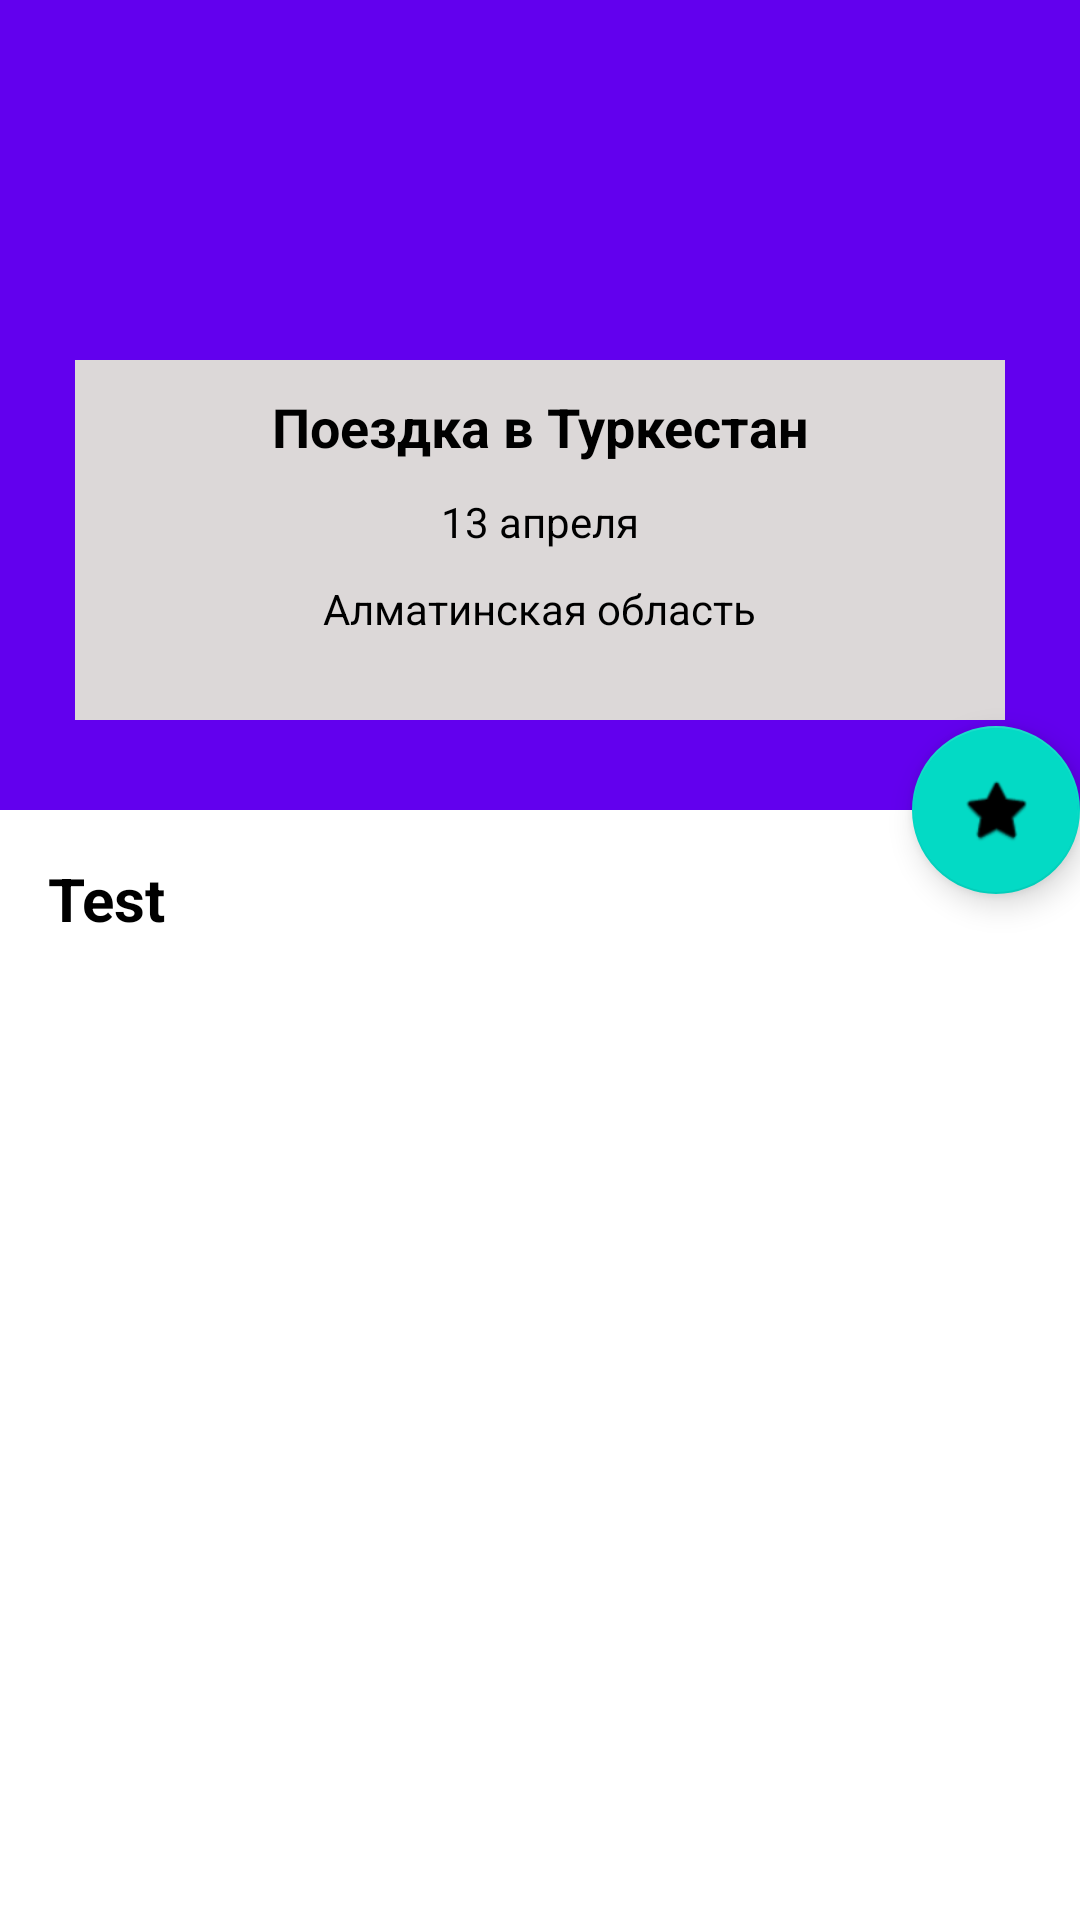

Screen size 1080x1920. Icon name, then its center in pixels as (x,y):
star on: (996,810)
